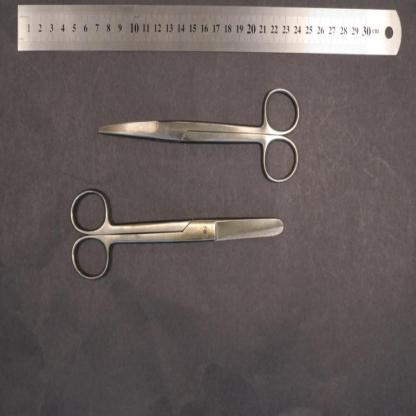Curved Mayo Scissors: (98, 86, 302, 185)
Dressing Scissors: (69, 186, 284, 282)
